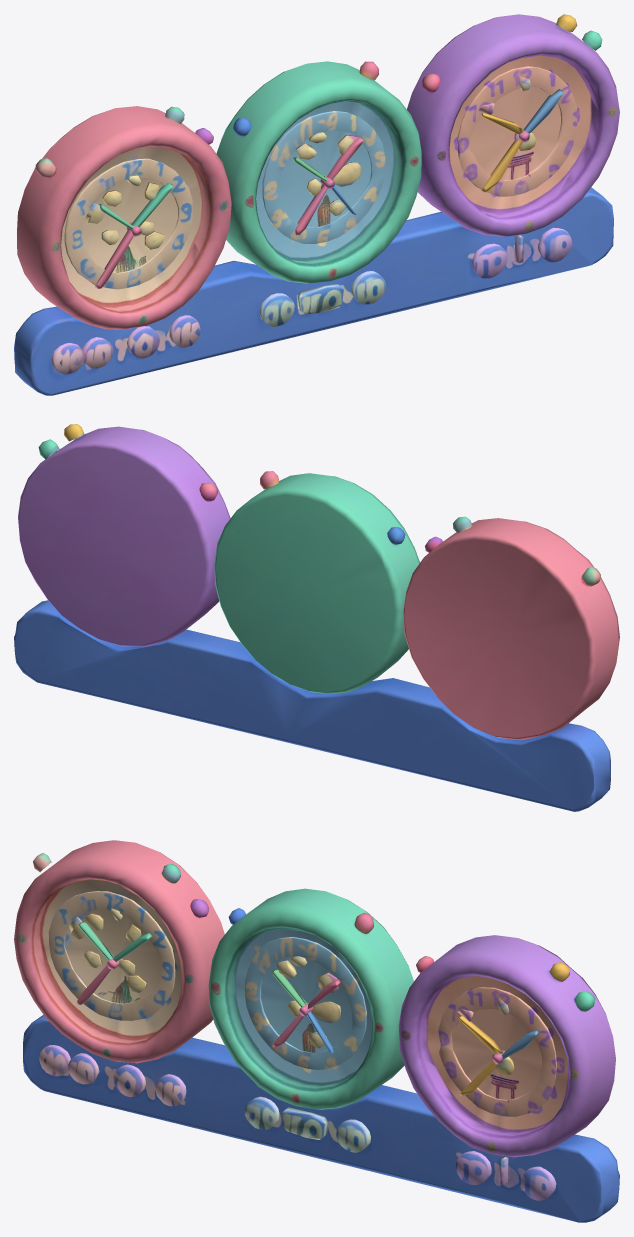
File: airport-departure-clock.glb
3 renders of one model, top to bottom at view 1: azimuth 30°, elevation 25°; view 2: azimuth 150°, elevation 25°; view 3: azimuth 330°, elevation 25°, orthographic.
Parts seen in each view (by area): view 1: geometry_0; view 2: geometry_0; view 3: geometry_0.
Part boxes in pixels (x1,y1,x2,y2): geometry_0: [14, 14, 619, 395]; geometry_0: [14, 424, 619, 811]; geometry_0: [14, 840, 619, 1222].
Bounding box in the file's own units: 1 × 0.4275 × 0.0974.
Materials: 1 (1 with a texture image).
